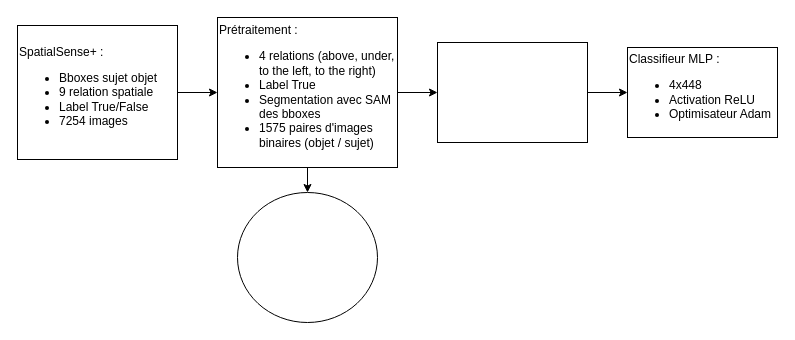
The diagram is 795 pixels wide and 340 high, and some of its shapes have lost their labels. The shapes that lost their labels are listed below. From the top down, each one's box as (x1, y1, x2, y2) in pixels, then its label:
(436, 42, 588, 142): Extended RLM : Calcul de l'Extended RLM pour chaque paire
(236, 192, 378, 322): Test de SAM sur COCO (segmentation complete d'image) : IoU = 77%
